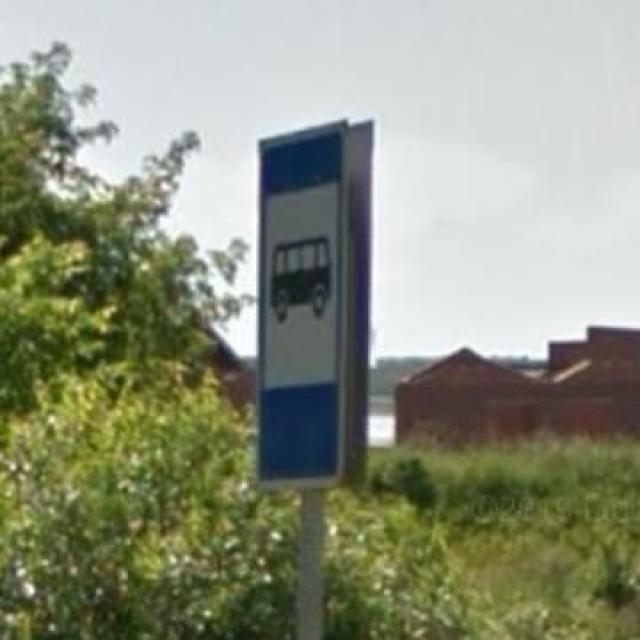traffic_sign: (256, 116, 352, 488)
